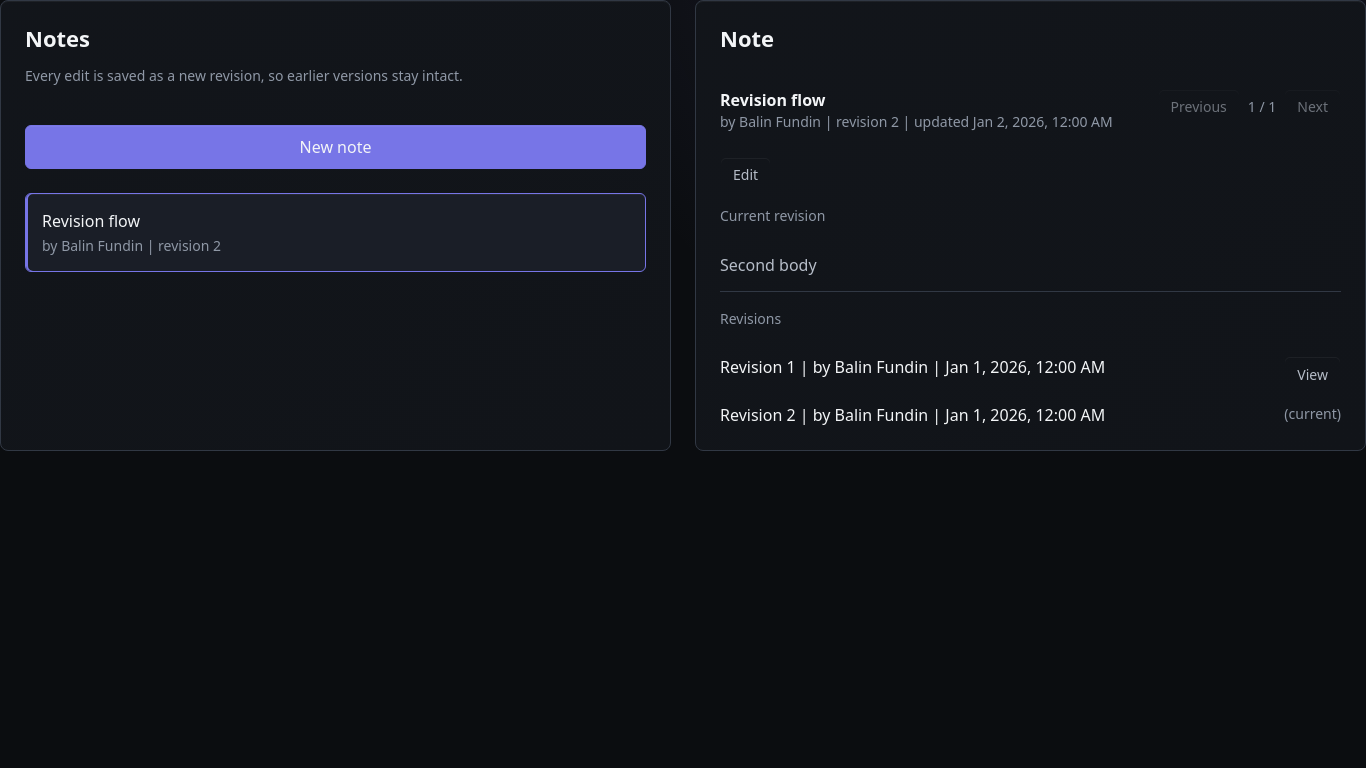
Scenario: NotesPanel › shows an old revision read-only with a banner and return action, then restores the current read mode
The width and height of the screenshot is (1366, 768).
expect the text "Second body" is shown: met, box [720,254,817,276]
expect the text "(current)" is shown: met, box [1284,404,1341,426]
Click the button "View" at (1313,374), box [1284,356,1341,392]
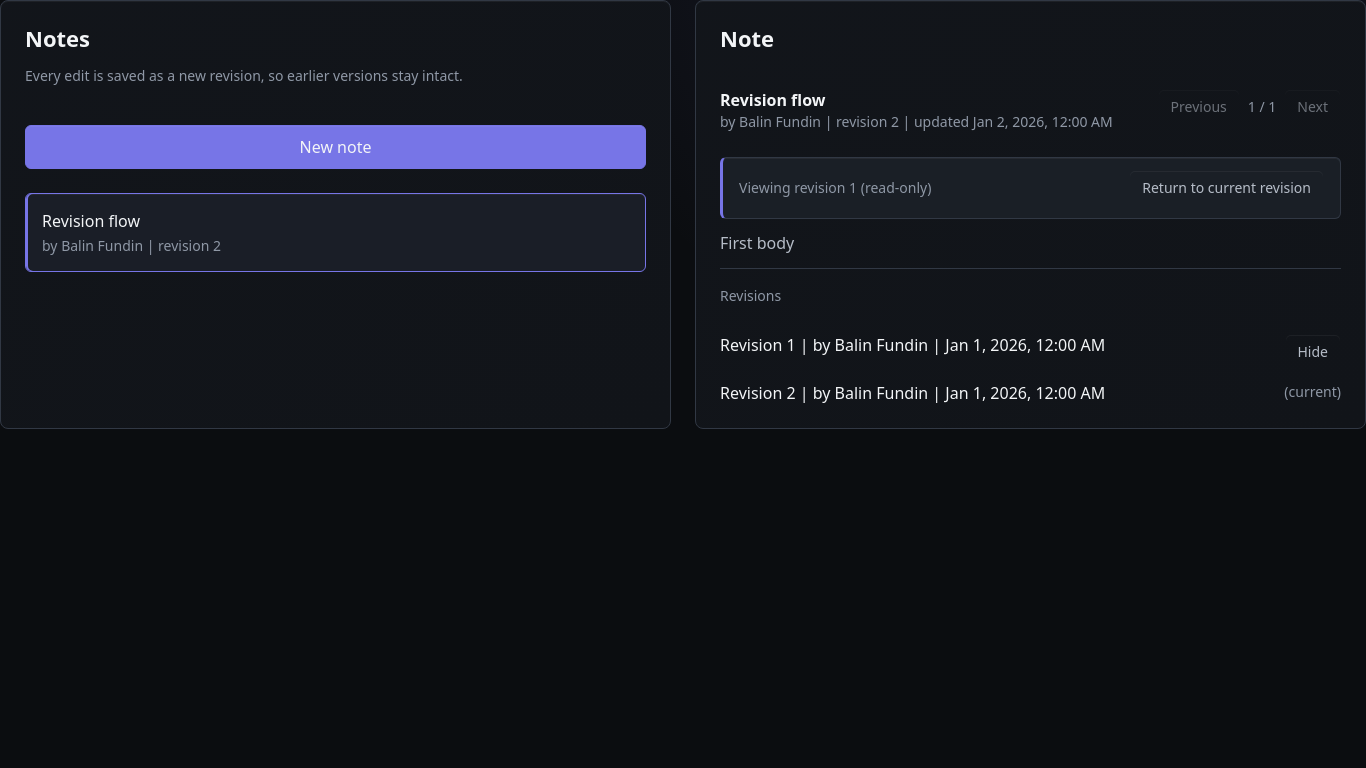
expect the text "Viewing revision 1 (read-only)" is shown: met, box [739,177,931,199]
expect the text "First body" is shown: met, box [720,232,794,254]
expect the text "Second body" is gone: met
Click the button "Return to current revision" at (1227,188), box [1129,170,1324,206]
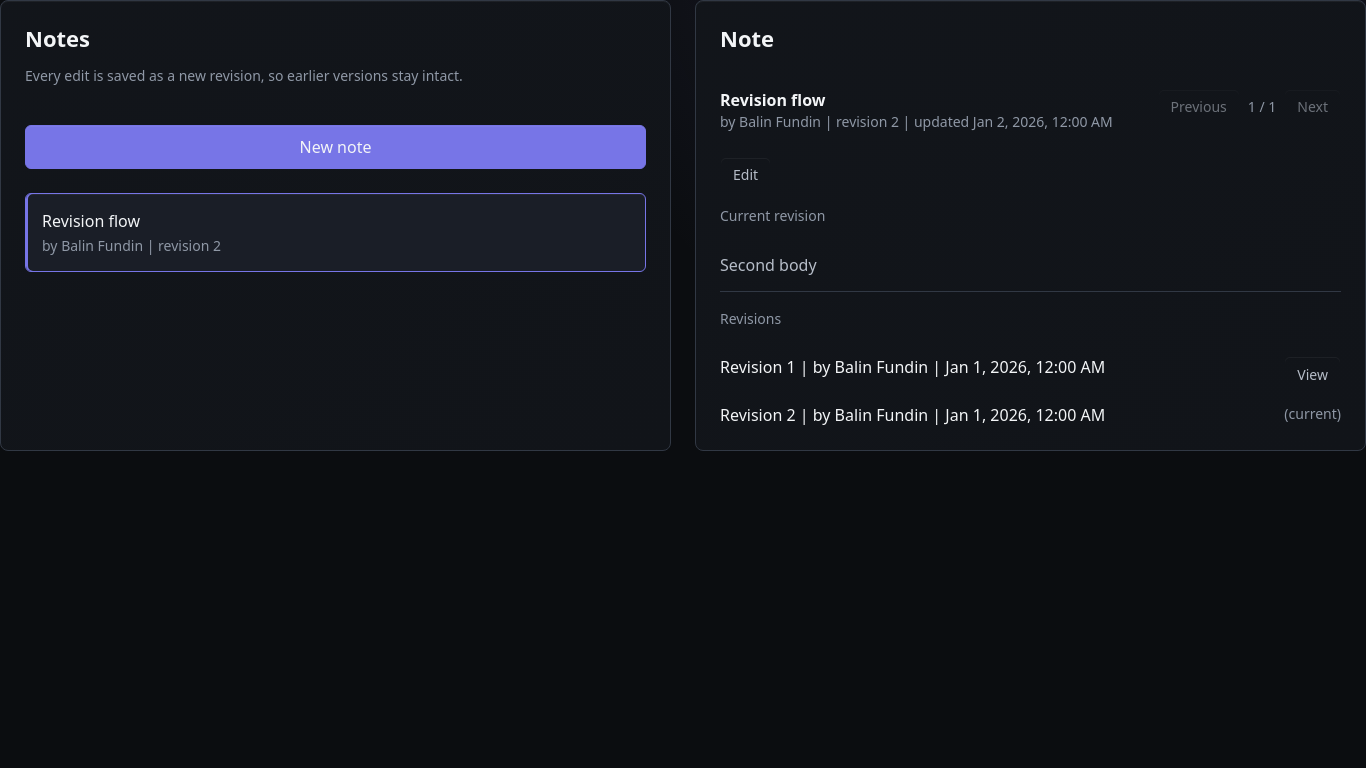
expect the text "Viewing revision 1 (read-only)" is gone: met
expect the text "Second body" is shown: met, box [720,254,817,276]
expect the button with aria-label "Edit note" is shown: met
Click the button with aria-label "Edit note" at (746,175), box [720,157,771,193]
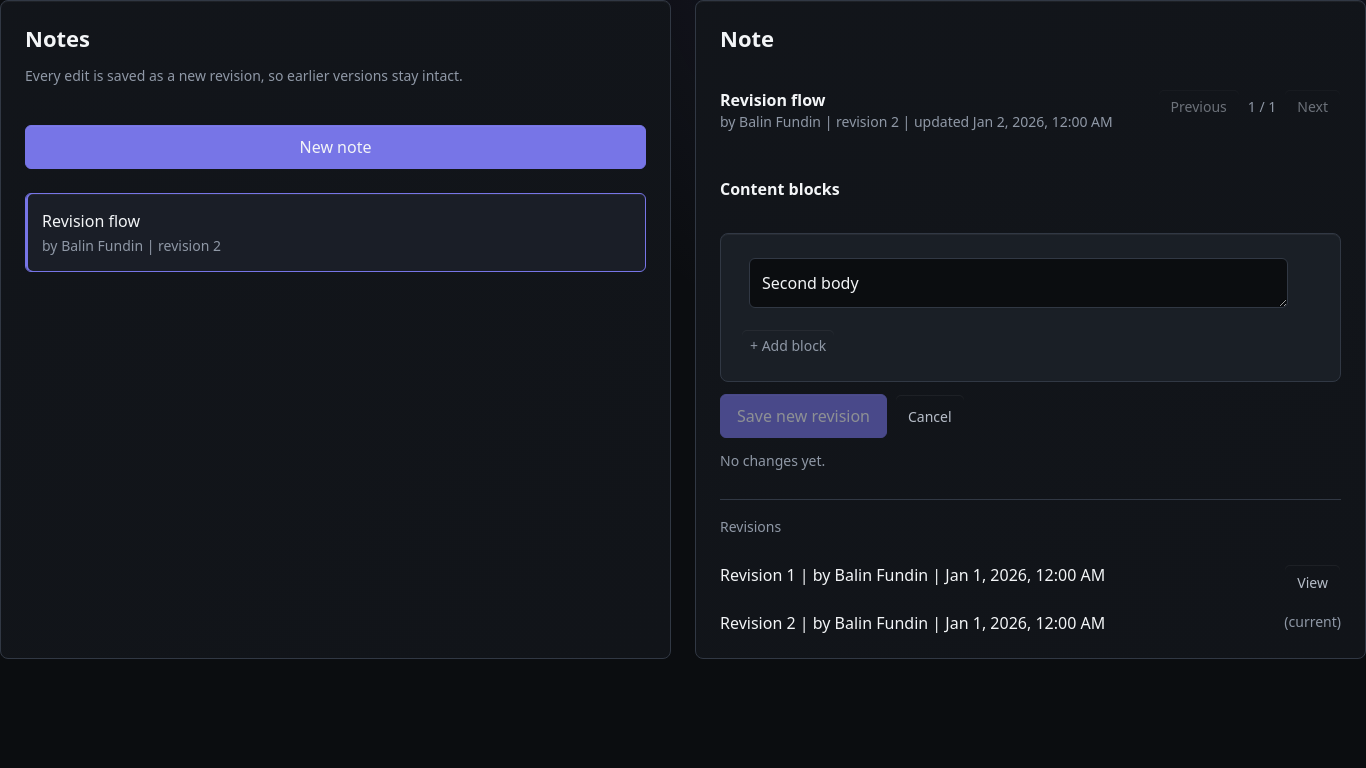
expect the button "Save new revision" is shown: met, box [720,394,887,438]
Click the button "Cancel" at (930,416), box [895,394,965,438]
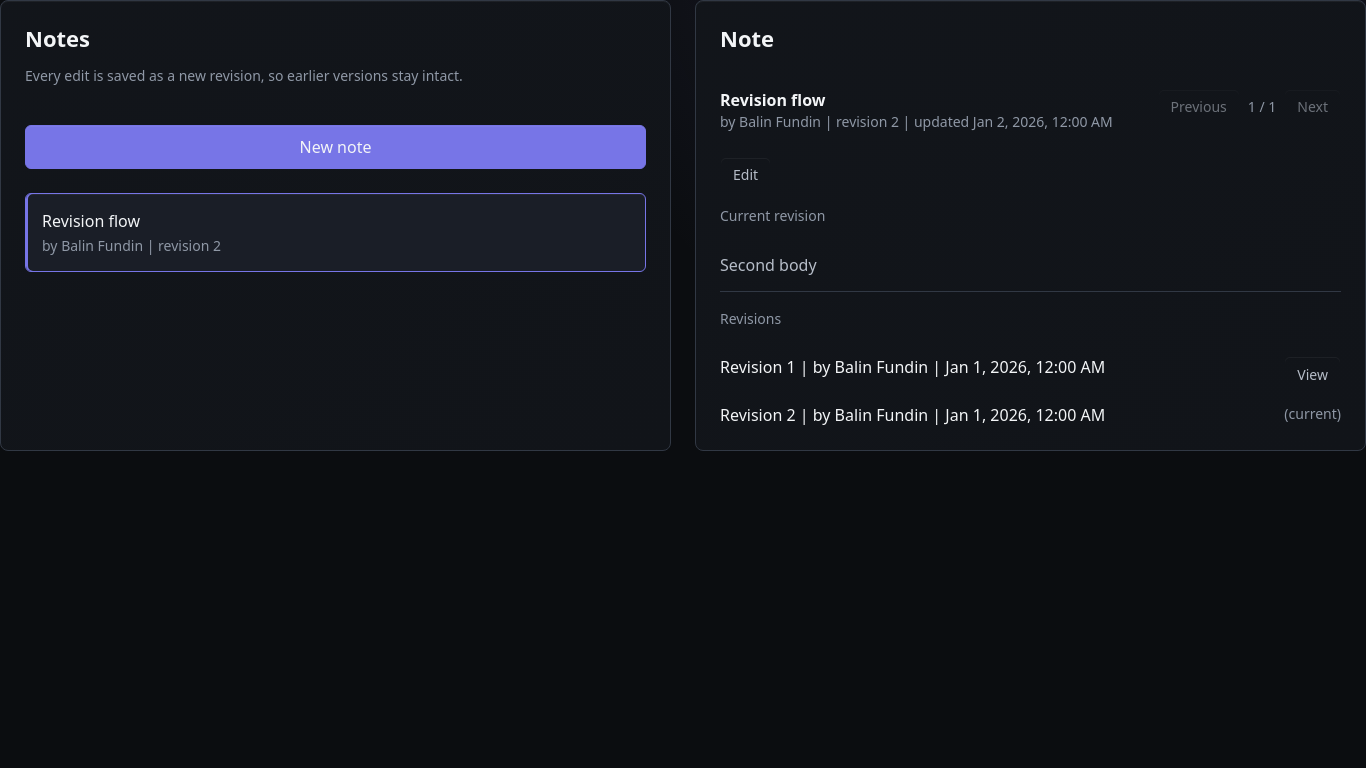
expect the button with aria-label "Edit note" is shown: met, box [720,157,771,193]
